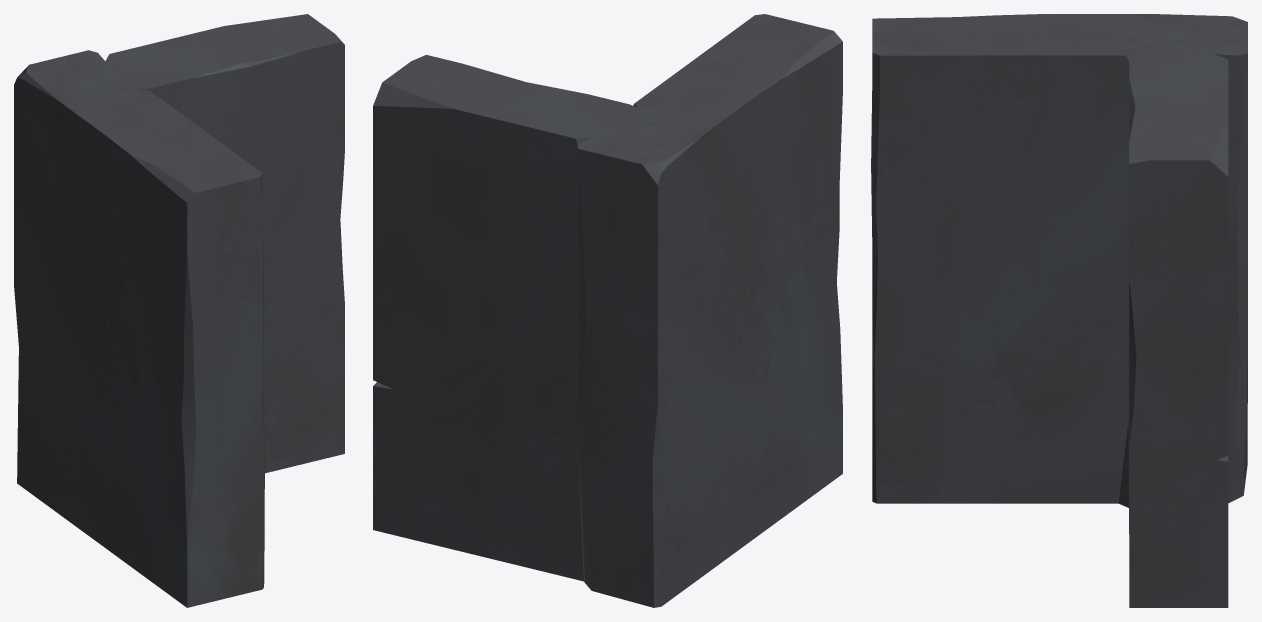
The model's file is ruins_wall_4.fbx.
3 views of the same model, side by side, from view 1: azimuth 30°, elevation 25°; view 2: azimuth 150°, elevation 25°; view 3: azimuth 270°, elevation 25° (orthographic). The views are drawn at different scales.
Parts seen in each view (by area): view 1: wall 4; view 2: wall 4; view 3: wall 4.
Part boxes in pixels (x1=…): wall 4: x1=14, y1=14, x2=344, y2=607; wall 4: x1=373, y1=14, x2=842, y2=607; wall 4: x1=871, y1=14, x2=1247, y2=607.
Bounding box in the file's own units: 140 × 200 × 153.
